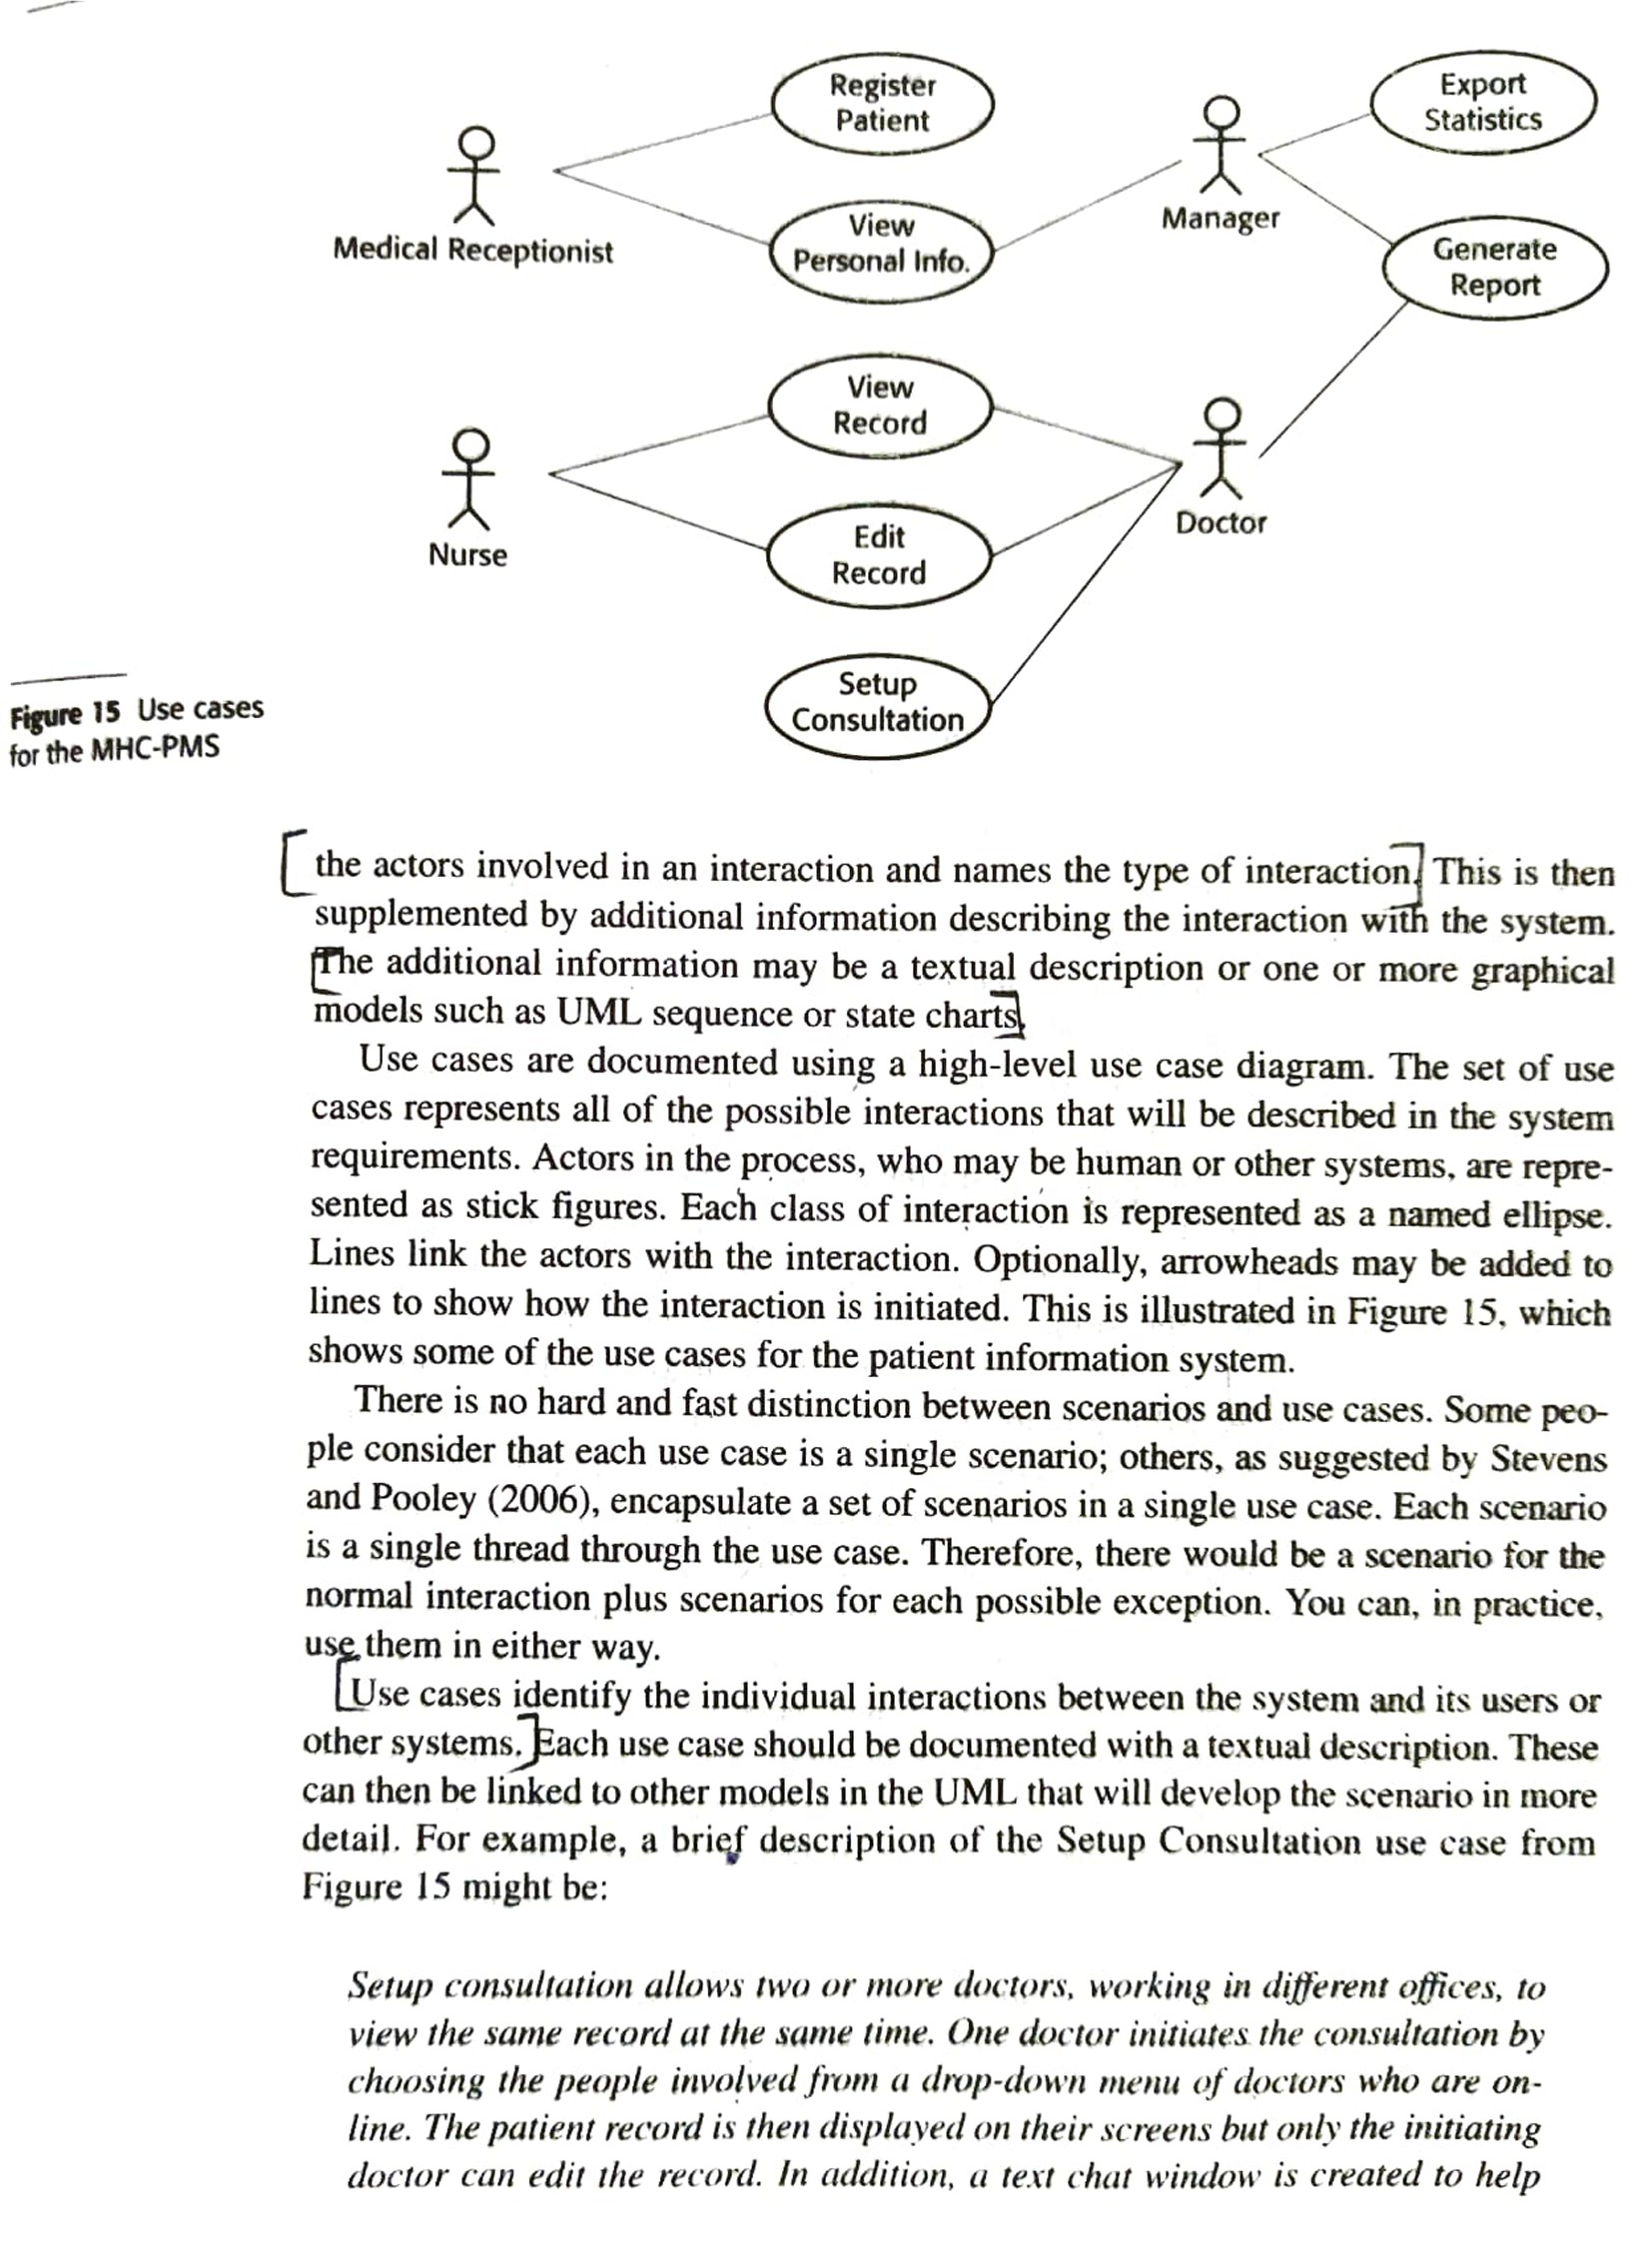BB1: (268, 823, 1638, 1377)
BB2: (268, 1384, 1635, 1931)
BB3: (312, 1952, 1607, 2210)
